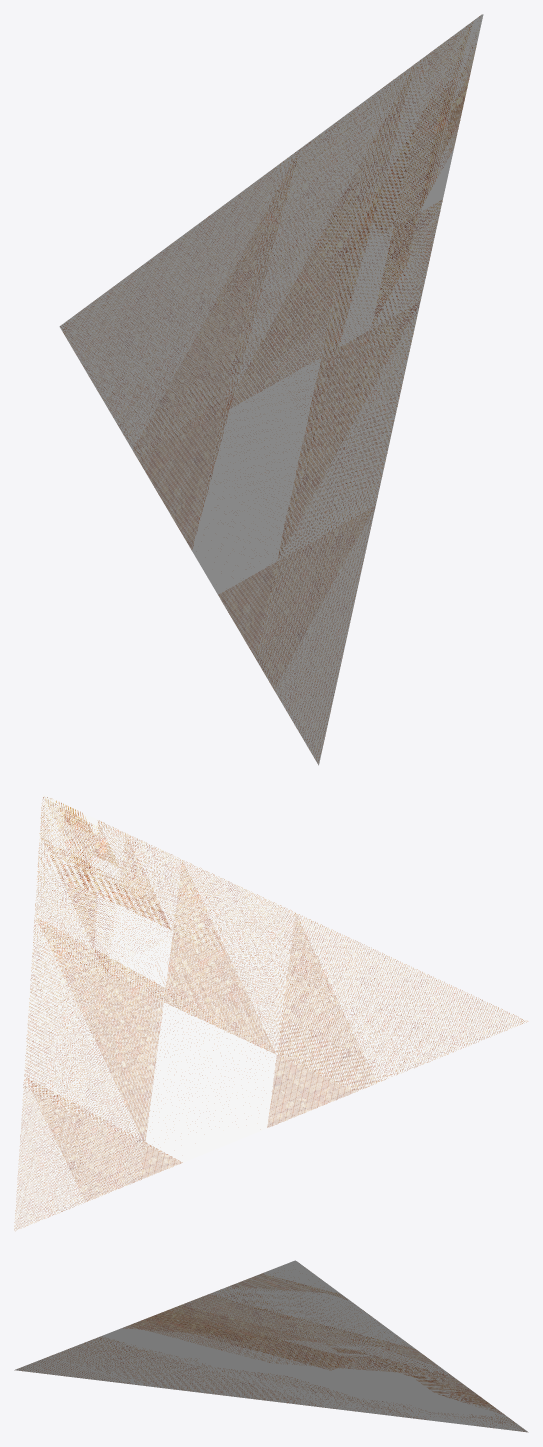
File: 西庸城堡357.dae
3 renders of one model, top to bottom at view 1: azimuth 30°, elevation 25°; view 2: azimuth 150°, elevation 25°; view 3: azimuth 270°, elevation 25°, orthographic. The views are drawn at different scales.
Parts seen in each view (by area): view 1: SketchUp; view 2: SketchUp; view 3: SketchUp.
Part boxes in pixels (x1,y1,x2,y2): SketchUp: (59,14,483,765); SketchUp: (14,794,528,1231); SketchUp: (14,1260,528,1432).
Bounding box in the file's own units: 294 × 588 × 275.
